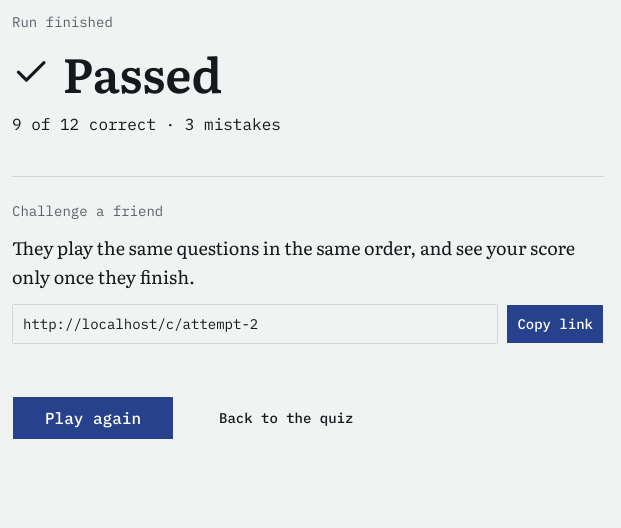
Test: run summary play again › shows the notFound message and lets the player retry
Click the button "Play again".
click(93, 418)  # box top-left (12, 396), bottom-right (174, 440)
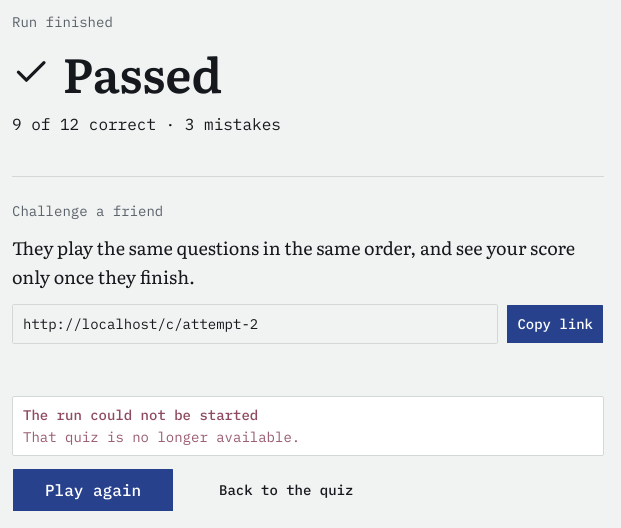
Check: the button "Play again" is enabled, box top-left (12, 468), bottom-right (174, 512)
Check: the message shows "That quiz is no longer available.", box top-left (23, 428), bottom-right (300, 446)
